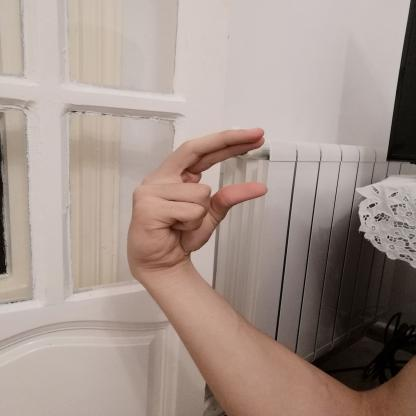DHELL: (108, 118, 282, 283)
